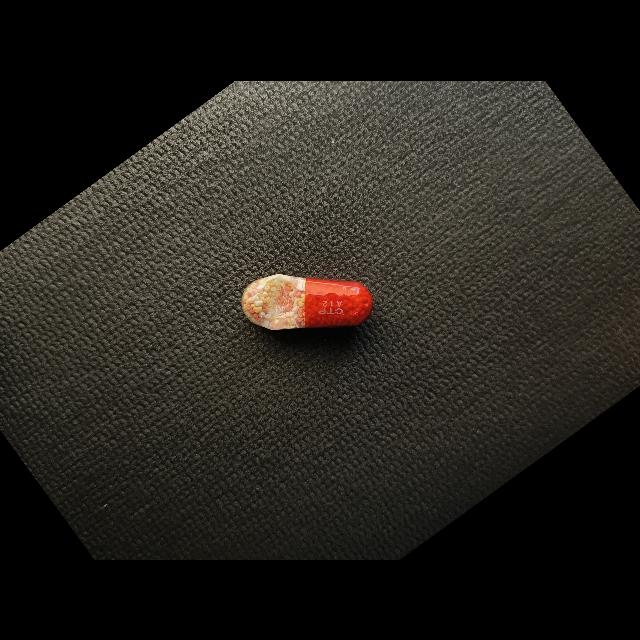Defective Capsule: (241, 273, 373, 330)
